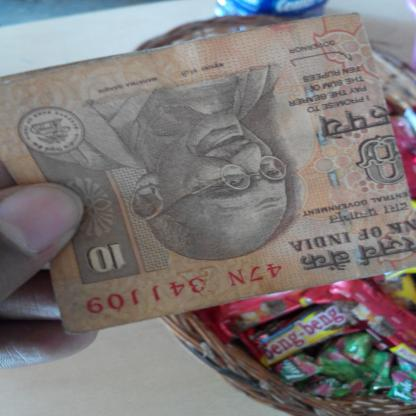Old10Front: (0, 11, 416, 337)
